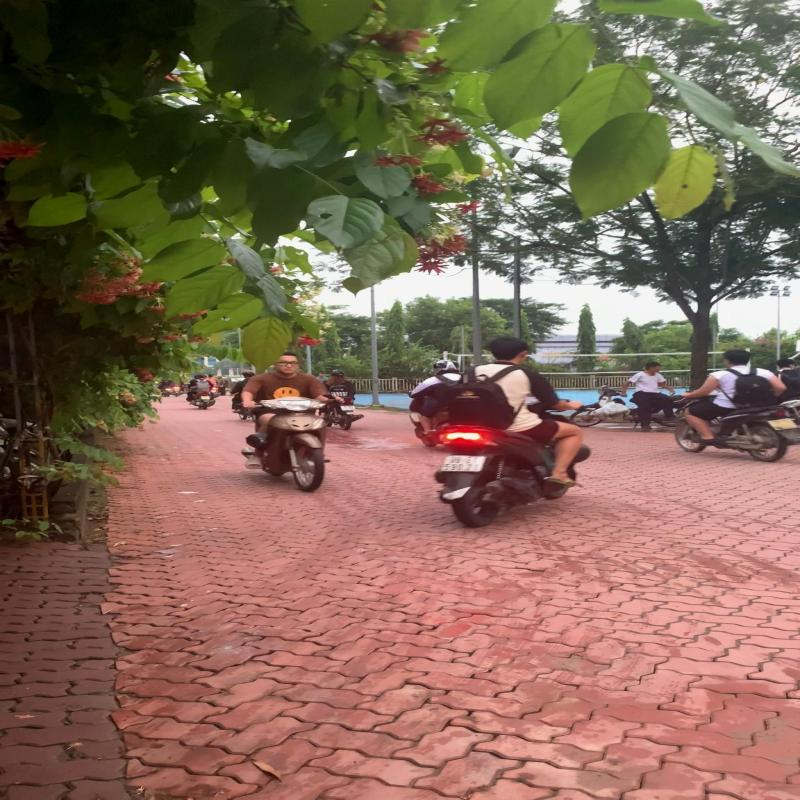licenseplate: (440, 454, 488, 473), (766, 417, 800, 430)
motorcyclist: (432, 335, 597, 528), (671, 346, 800, 464)
nohelmet: (488, 337, 531, 364), (722, 348, 753, 366)
